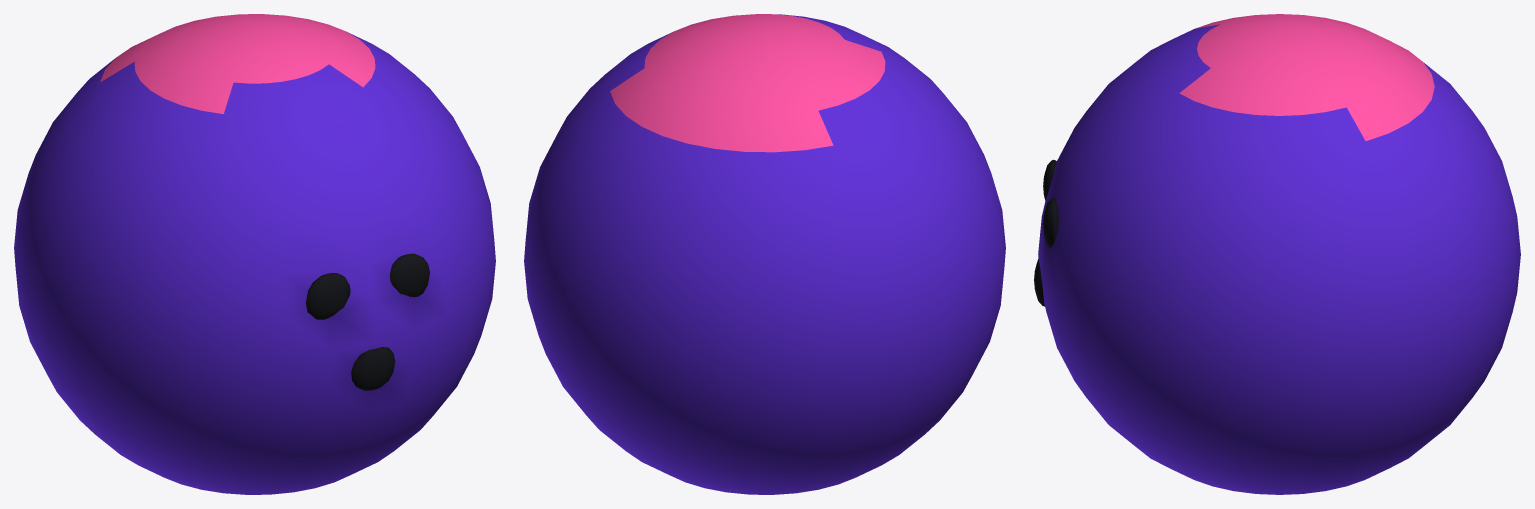
File: bl_bowling_ball.glb
The picture shows the model from 3 angles, left to right: view 1: azimuth 30°, elevation 25°; view 2: azimuth 150°, elevation 25°; view 3: azimuth 270°, elevation 25°; orthographic projection.
Parts seen in each view (by area): view 1: bowling_ball; view 2: bowling_ball; view 3: bowling_ball.
Boxes of the visible parts, box(x1,y1,x2,y2) form: bowling_ball: box(14, 14, 495, 494); bowling_ball: box(524, 14, 1005, 494); bowling_ball: box(1034, 14, 1520, 494).
Bounding box in the file's own units: 1 × 1 × 1.01.
